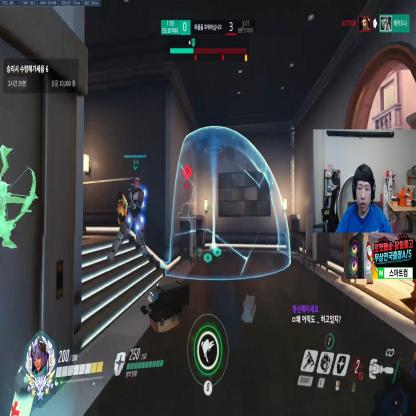streamer: (335, 164, 393, 232)
